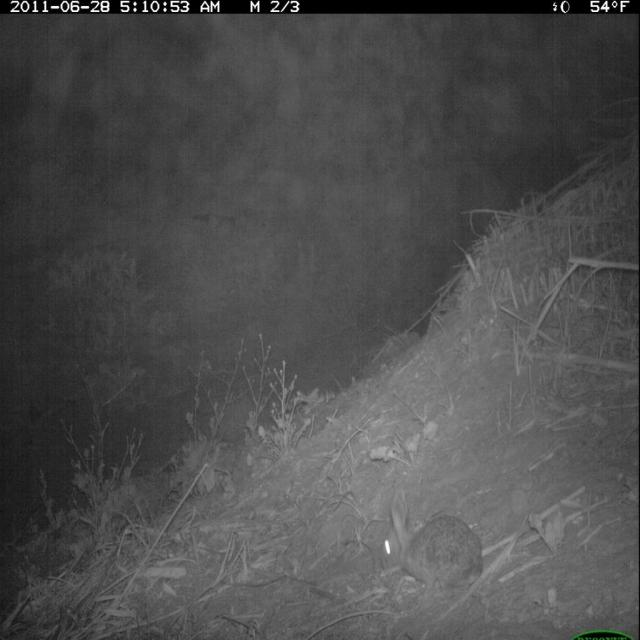rabbit: (380, 489, 488, 605)
